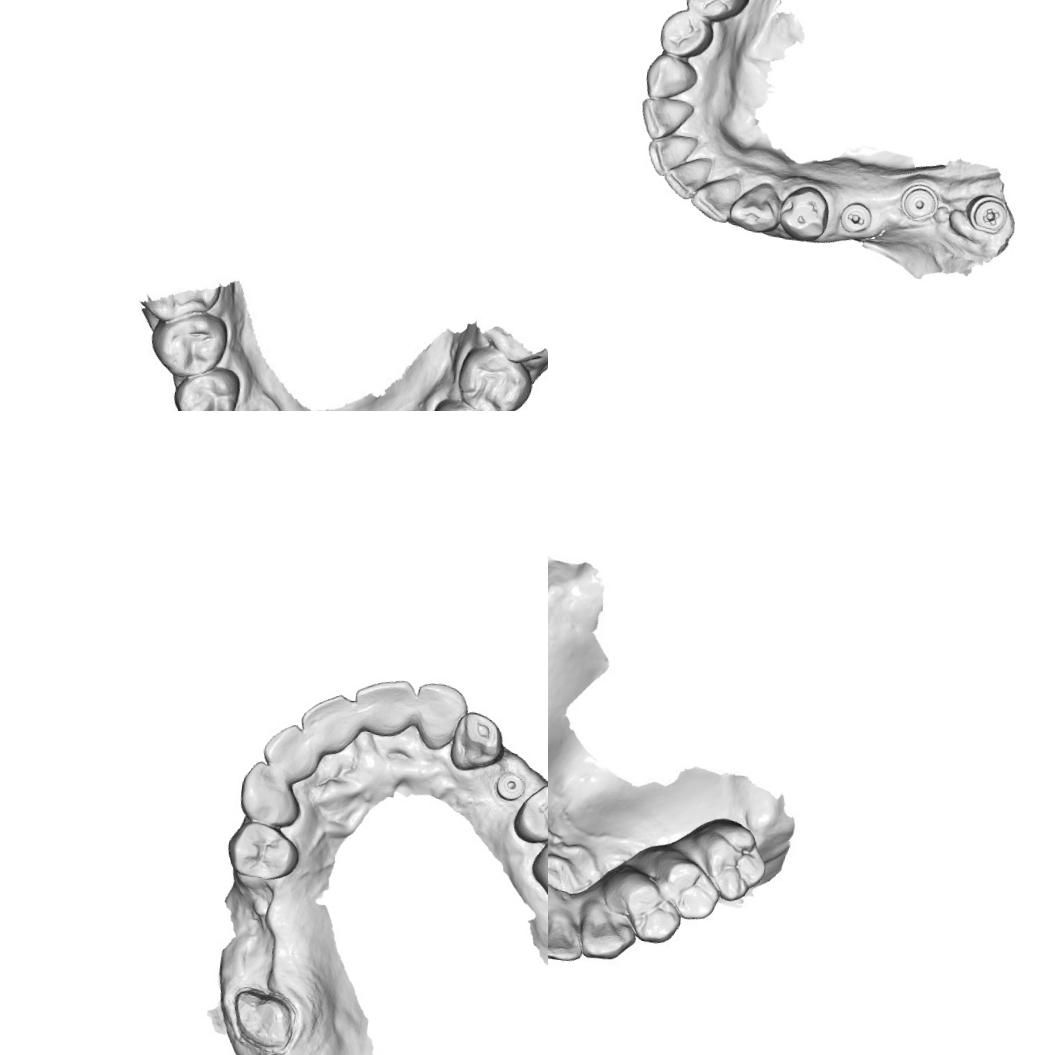canine: (236, 758, 308, 830), (575, 896, 642, 964), (446, 708, 508, 776), (726, 178, 786, 236), (643, 50, 701, 104)
crown: (224, 982, 300, 1054)
implant: (896, 180, 941, 226), (492, 768, 530, 803)
implant_minus: (838, 199, 875, 236)
implant_plus: (962, 190, 1011, 237)
incisor: (350, 672, 419, 741), (408, 680, 471, 754), (258, 719, 322, 784), (296, 688, 355, 756), (643, 130, 700, 182), (687, 172, 742, 225), (637, 95, 696, 144), (661, 152, 713, 203), (548, 907, 590, 965)
molar: (688, 816, 775, 909), (526, 816, 548, 914)
premolar: (145, 307, 235, 387), (455, 341, 536, 411), (221, 819, 304, 884), (656, 854, 726, 928), (615, 874, 684, 946), (163, 357, 244, 411), (776, 182, 832, 245), (655, 7, 717, 62), (509, 779, 548, 849), (683, 0, 753, 24), (424, 395, 502, 411)
